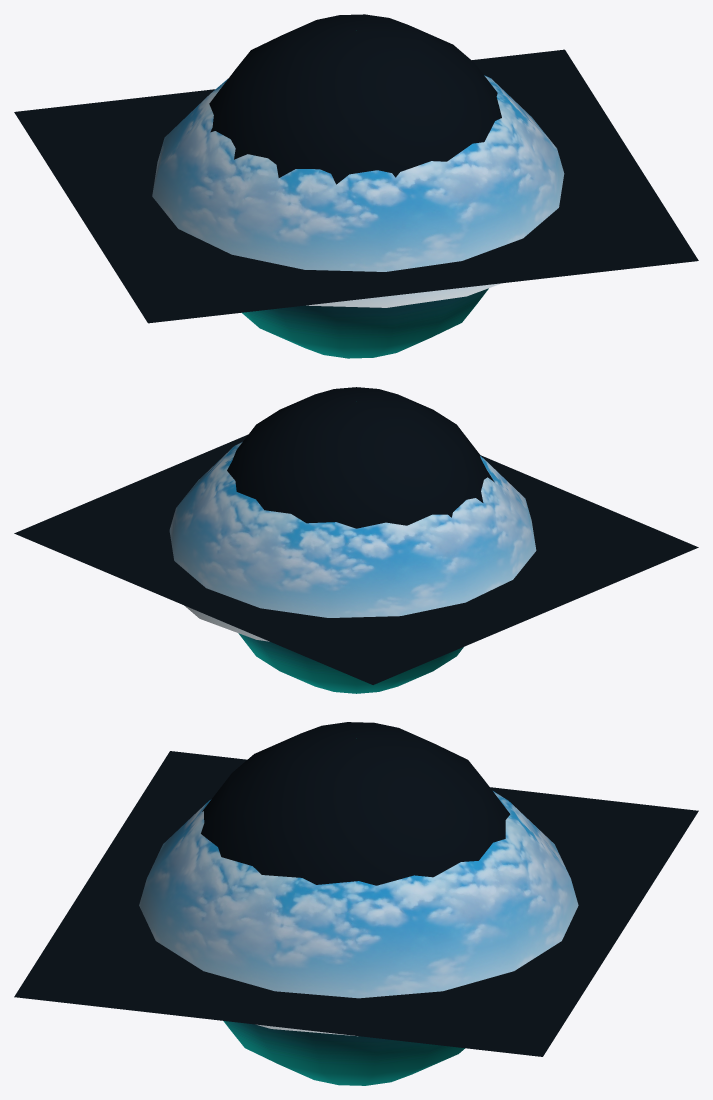
Rendered from BattleArea_Dun0020001.fbx.
The picture shows the model from 3 angles, top to bottom: view 1: azimuth 30°, elevation 25°; view 2: azimuth 150°, elevation 25°; view 3: azimuth 270°, elevation 25°; orthographic projection. The views are drawn at different scales.
Visible parts, largest first — view 1: skillbg_02, sky_01_001, skillbg_01; view 2: skillbg_02, sky_01_001, skillbg_01; view 3: skillbg_02, sky_01_001, skillbg_01.
Part boxes in pixels (x1,y1,x2,y2): skillbg_02: (14, 49, 698, 323); sky_01_001: (152, 75, 564, 307); skillbg_01: (209, 14, 501, 358); skillbg_02: (14, 434, 698, 684); sky_01_001: (169, 442, 536, 641); skillbg_01: (227, 387, 494, 693); skillbg_02: (14, 751, 698, 1056); sky_01_001: (139, 791, 578, 1036); skillbg_01: (201, 722, 510, 1085).
Bounding box in the file's own units: 372 × 187 × 352.
